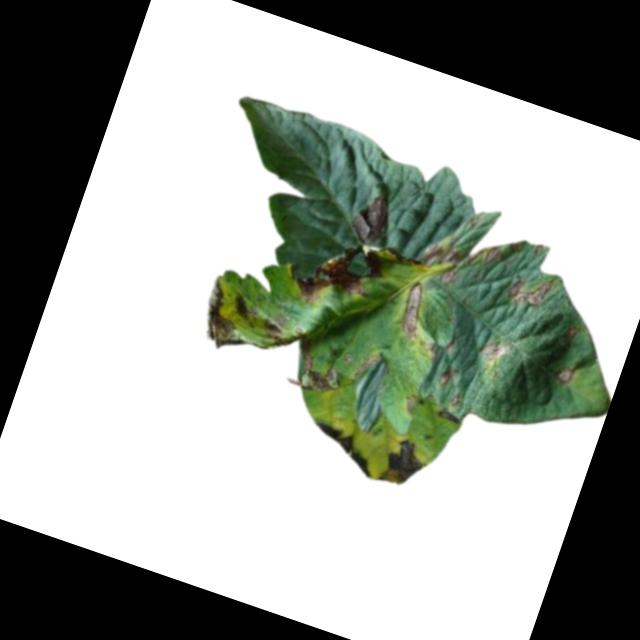Early_blight: (289, 223, 413, 331), (285, 334, 371, 409), (193, 277, 260, 355), (303, 416, 384, 478), (374, 431, 433, 494), (346, 186, 397, 247), (390, 277, 435, 341), (504, 266, 555, 313), (418, 238, 465, 287), (256, 305, 298, 351), (228, 287, 265, 326), (478, 333, 514, 366), (433, 405, 463, 427), (554, 364, 577, 389), (562, 321, 582, 343), (482, 241, 501, 264), (438, 365, 454, 386), (447, 392, 463, 407)
